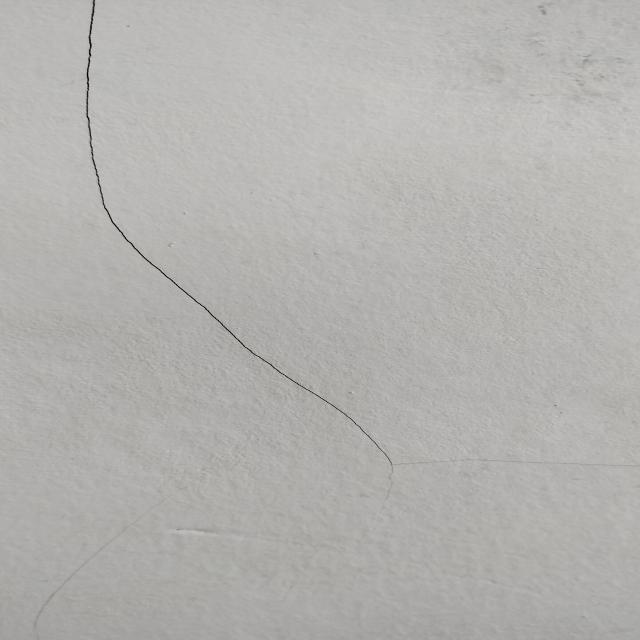Crack: (70, 1, 640, 476)
